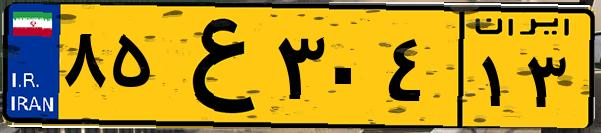0: (330, 28, 385, 110)
1: (475, 38, 525, 113)
3: (270, 28, 330, 110), (525, 38, 570, 115)
4: (385, 28, 445, 110)
5: (110, 28, 158, 98)
8: (57, 26, 110, 100)
ع: (158, 12, 270, 120)
